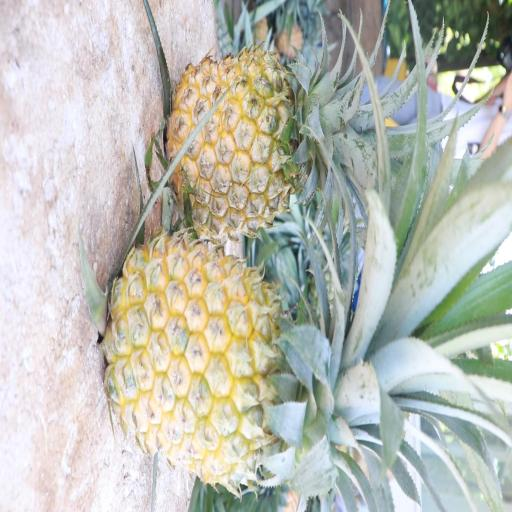Pineapple - v8 v1: (98, 228, 388, 489), (161, 41, 362, 243), (216, 154, 226, 158), (223, 112, 232, 112)
